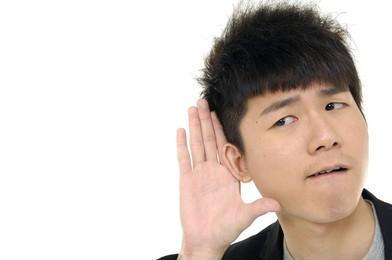face: (239, 91, 372, 221)
